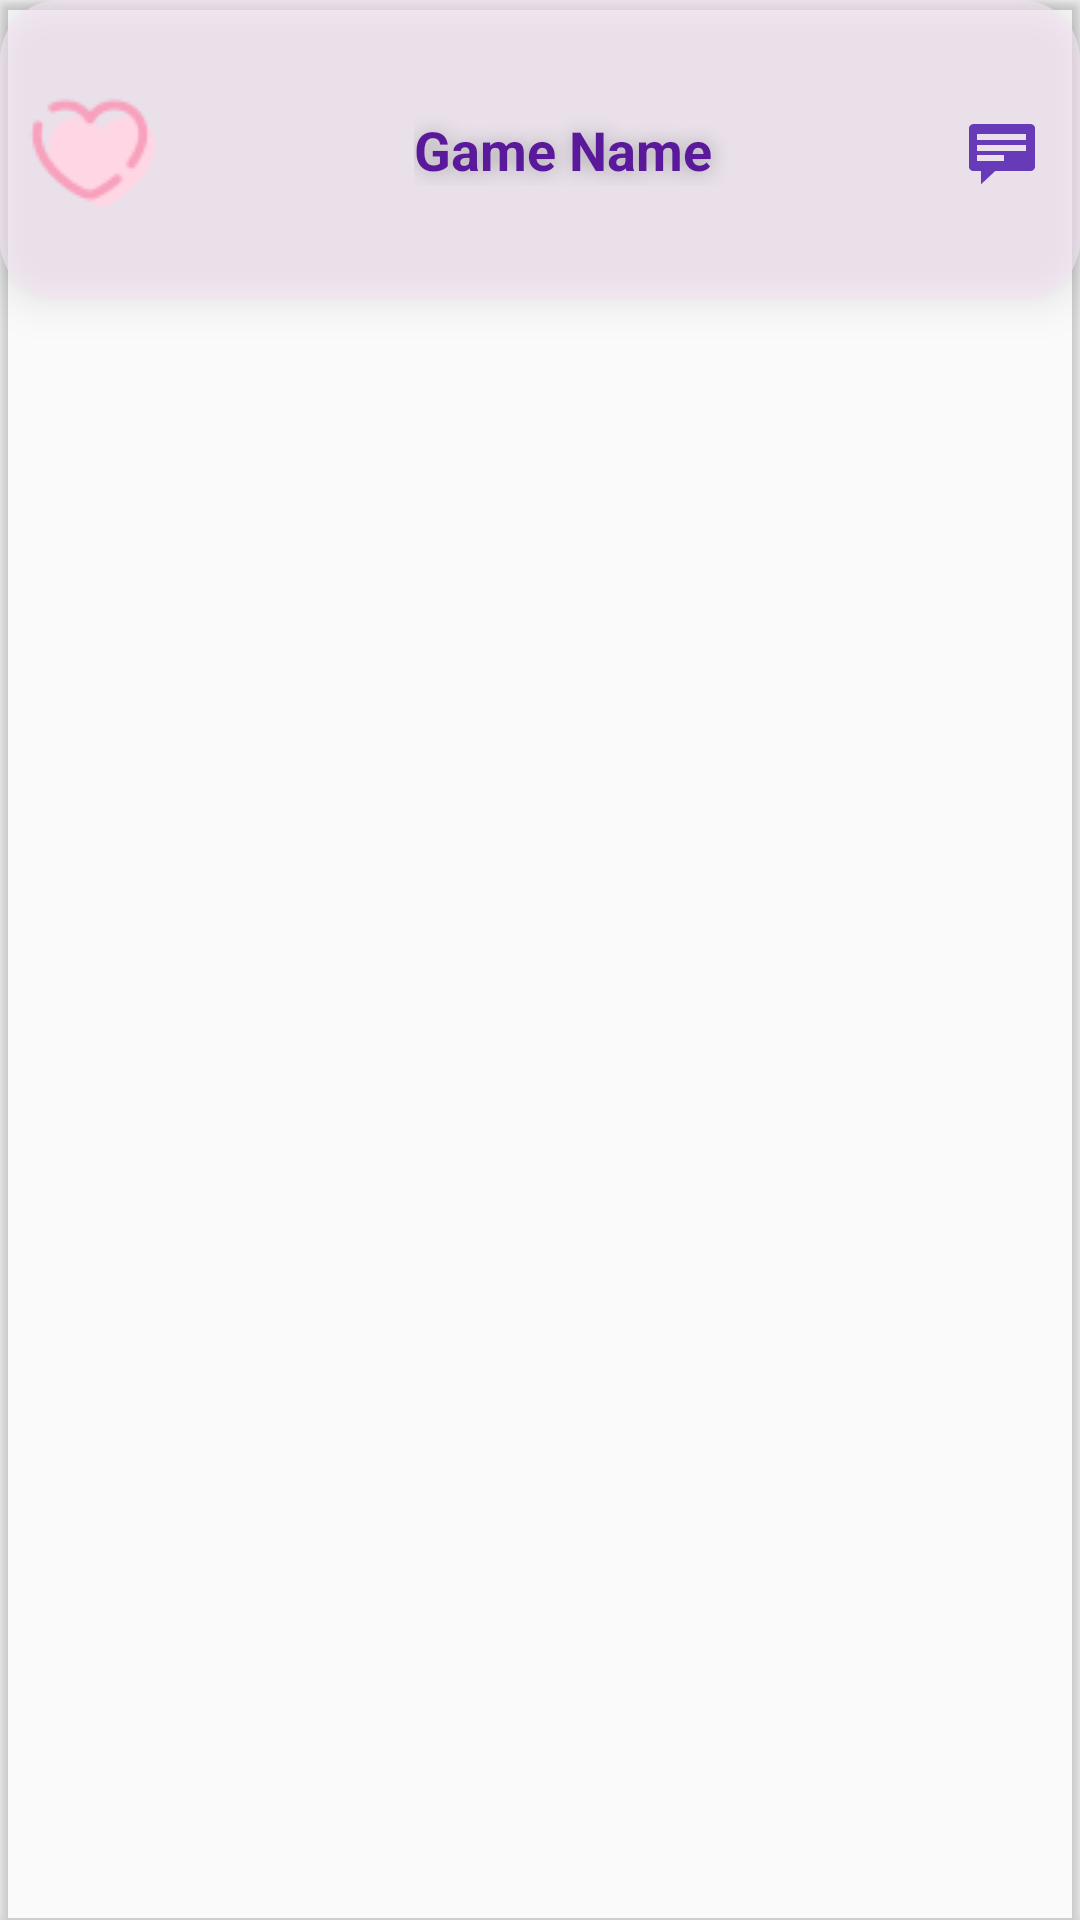

Locate icon controls on the screen. Image size 1080px×1920px, boxes as (x1, y1, x2, y2).
chat: (969, 124, 1035, 184)
